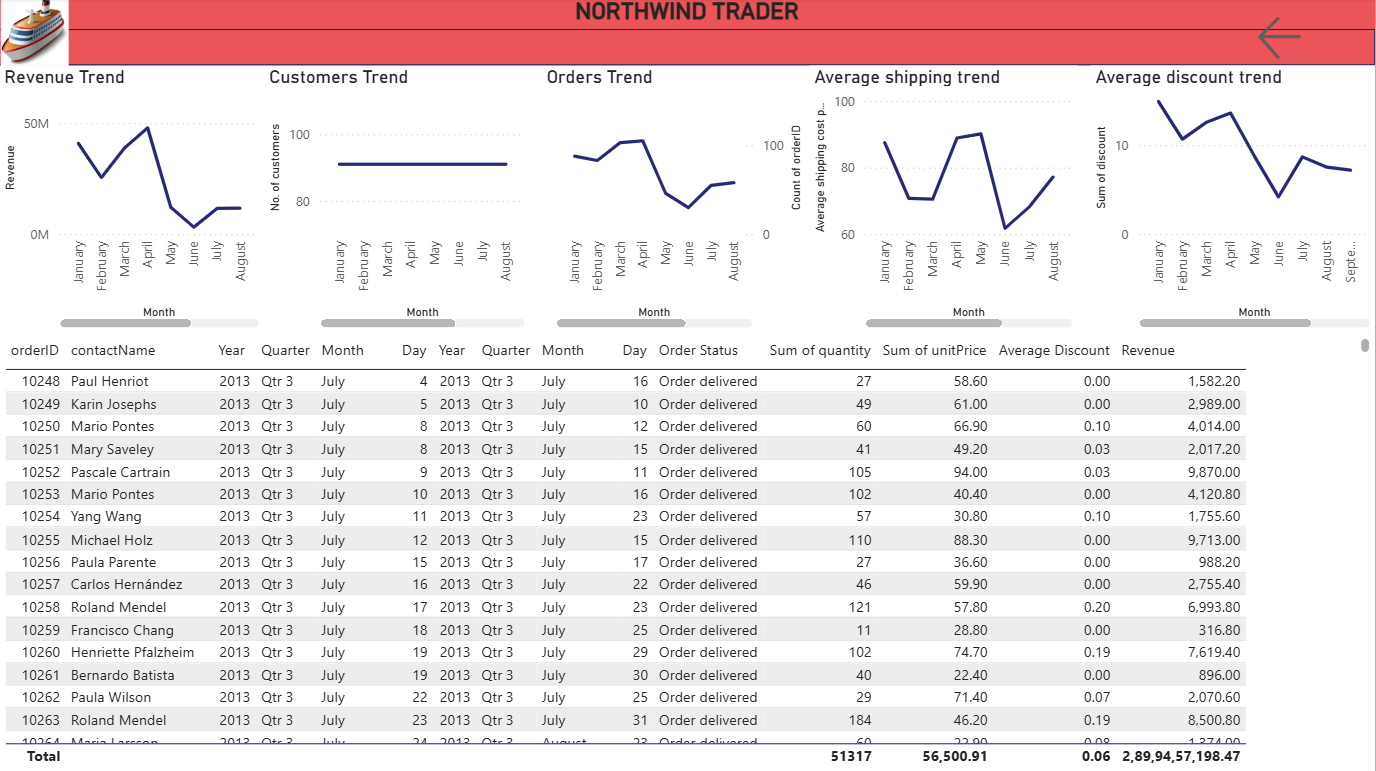

Layout of this report page (visuals, bound fields, positions):
{"tool":"powerbi","page":{"name":"Page 2","canvas":[1280,720],"ordinal":1},"visuals":[{"type":"tableEx","fields":{"Values":["Orders.orderID","Customers.contactName","Orders.orderDate.Variation.Date Hierarchy.Year","Orders.orderDate.Variation.Date Hierarchy.Quarter","Orders.orderDate.Variation.Date Hierarchy.Month","Orders.orderDate.Variation.Date Hierarchy.Day","Orders.shippedDate.Variation.Date Hierarchy.Year","Orders.shippedDate.Variation.Date Hierarchy.Quarter","Orders.shippedDate.Variation.Date Hierarchy.Month","Orders.shippedDate.Variation.Date Hierarchy.Day","Orders.Order Status","Sum(Order_details.quantity)"]},"box":[0,311.8,1280.2,407.8],"z":0},{"type":"lineChart","title":"Revenue Trend","fields":{"Y":["Order_details.Revenue"],"Category":["Orders.orderDate.Variation.Date Hierarchy.Month"]},"box":[0,62.8,246.6,248.9],"z":1000},{"type":"lineChart","title":"Customers Trend","fields":{"Y":["Customers.No. of customers"],"Category":["Orders.orderDate.Variation.Date Hierarchy.Month"]},"box":[246.6,62.8,247.8,248.9],"z":2000},{"type":"lineChart","title":"Orders Trend","fields":{"Category":["Orders.orderDate.Variation.Date Hierarchy.Month"],"Y2":["CountNonNull(Orders.orderID)"]},"box":[505,62.8,248.9,248.9],"z":3000},{"type":"shape","title":"NORTHWIND TRADER","box":[0,0,1280.2,62.8],"z":4000},{"type":"lineChart","title":"Average shipping trend","fields":{"Category":["Orders.orderDate.Variation.Date Hierarchy.Month"],"Y":["Orders.Average shipping cost per order"]},"box":[753.9,62.8,250.1,248.9],"z":5000},{"type":"image","box":[0,0,66.4,62.8],"z":6000},{"type":"lineChart","title":"Average discount trend","fields":{"Y":["Sum(Order_details.discount)"],"Category":["Orders.orderDate.Variation.Date Hierarchy.Month"]},"box":[1015.1,62.8,265.1,248.8],"z":7000},{"type":"actionButton","box":[1166.3,11.6,67.4,51.2],"z":8000}]}

Visuals, with their boxes in screenshot pixels (x1, y1, x2, y2), scaled from the page's 1280x720 canvas onto the 1376x771 screenshot:
tableEx - Orders.orderID x Customers.contactName: detection(0, 334, 1375, 770)
"Revenue Trend" lineChart: detection(0, 67, 265, 334)
"Customers Trend" lineChart: detection(265, 67, 531, 334)
"Orders Trend" lineChart: detection(543, 67, 810, 334)
"NORTHWIND TRADER" shape: detection(0, 0, 1375, 67)
"Average shipping trend" lineChart: detection(810, 67, 1079, 334)
image: detection(0, 0, 71, 67)
"Average discount trend" lineChart: detection(1091, 67, 1375, 334)
actionButton: detection(1254, 12, 1326, 67)
